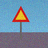sign: (12, 6, 29, 39)
